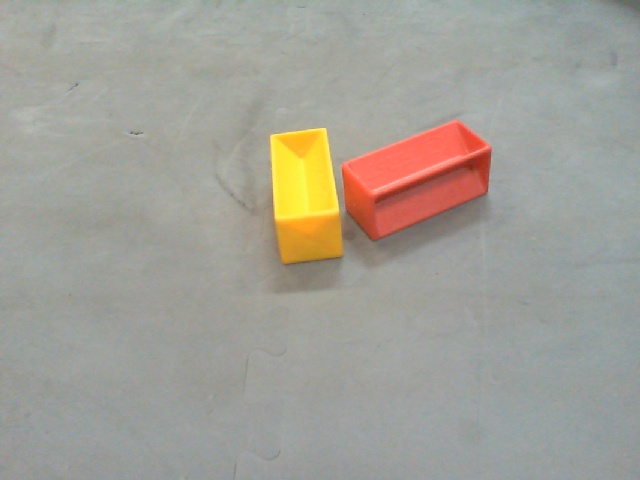RedSample: (341, 119, 494, 238)
YellowSample: (267, 124, 344, 265)
